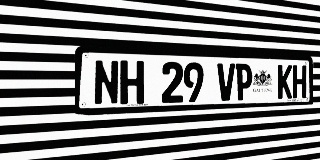2: (162, 61, 183, 103)
9: (184, 62, 204, 102)
H: (120, 60, 144, 105), (293, 65, 306, 98)
K: (278, 65, 292, 99)
N: (94, 60, 119, 105)
P: (235, 63, 252, 100)
V: (217, 63, 235, 101)
